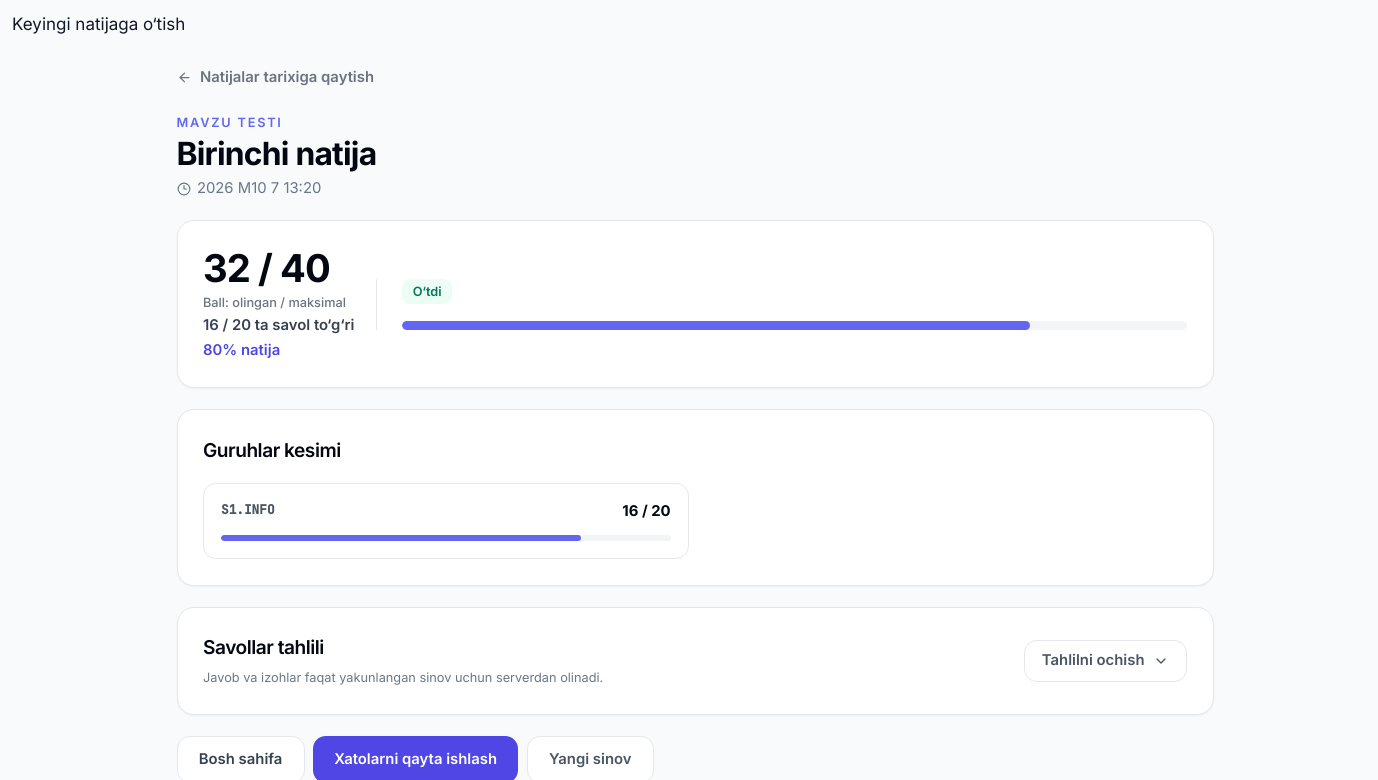
Test: ExamResultPage › does not leak the previous attempt review into a new result route
The width and height of the screenshot is (1378, 780).
Expected: the heading "Birinchi natija" is shown, [176,134,376,173]
Click the button "Tahlilni ochish".
click(1105, 661)  # box [1024,640,1187,682]
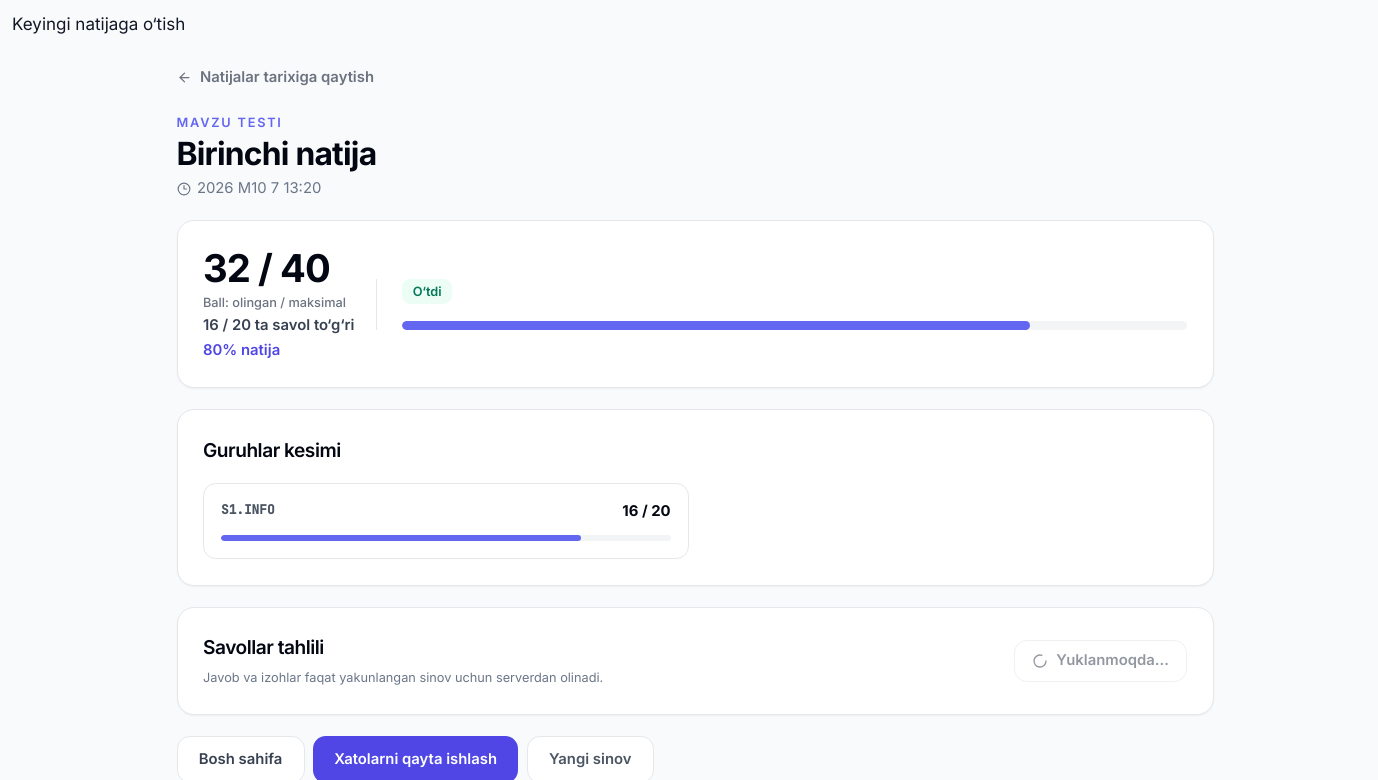
Click the link "Keyingi natijaga o‘tish".
click(99, 24)  # box [12,14,185,34]
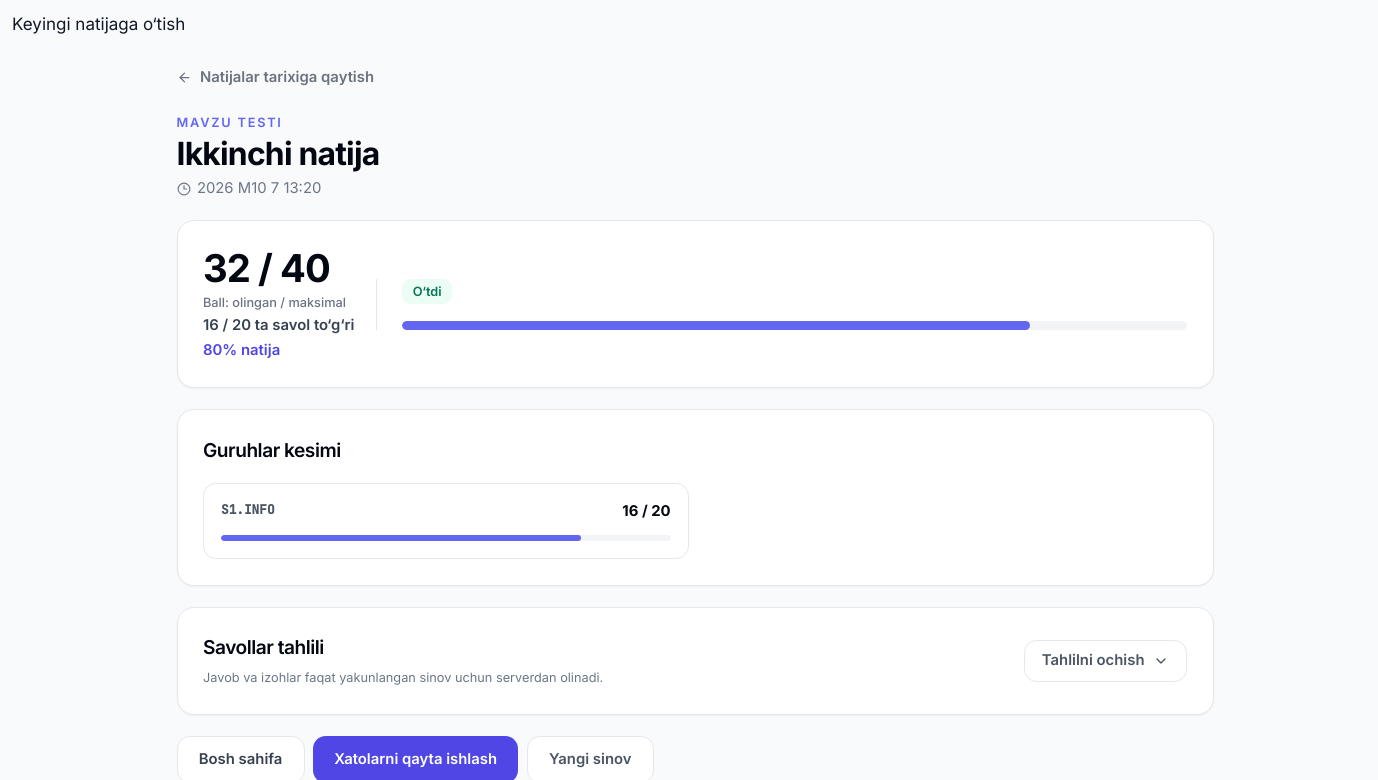
Expected: the heading "Ikkinchi natija" is shown, [176,134,380,173]
Click the button "Tahlilni ochish".
click(1105, 661)  # box [1024,640,1187,682]
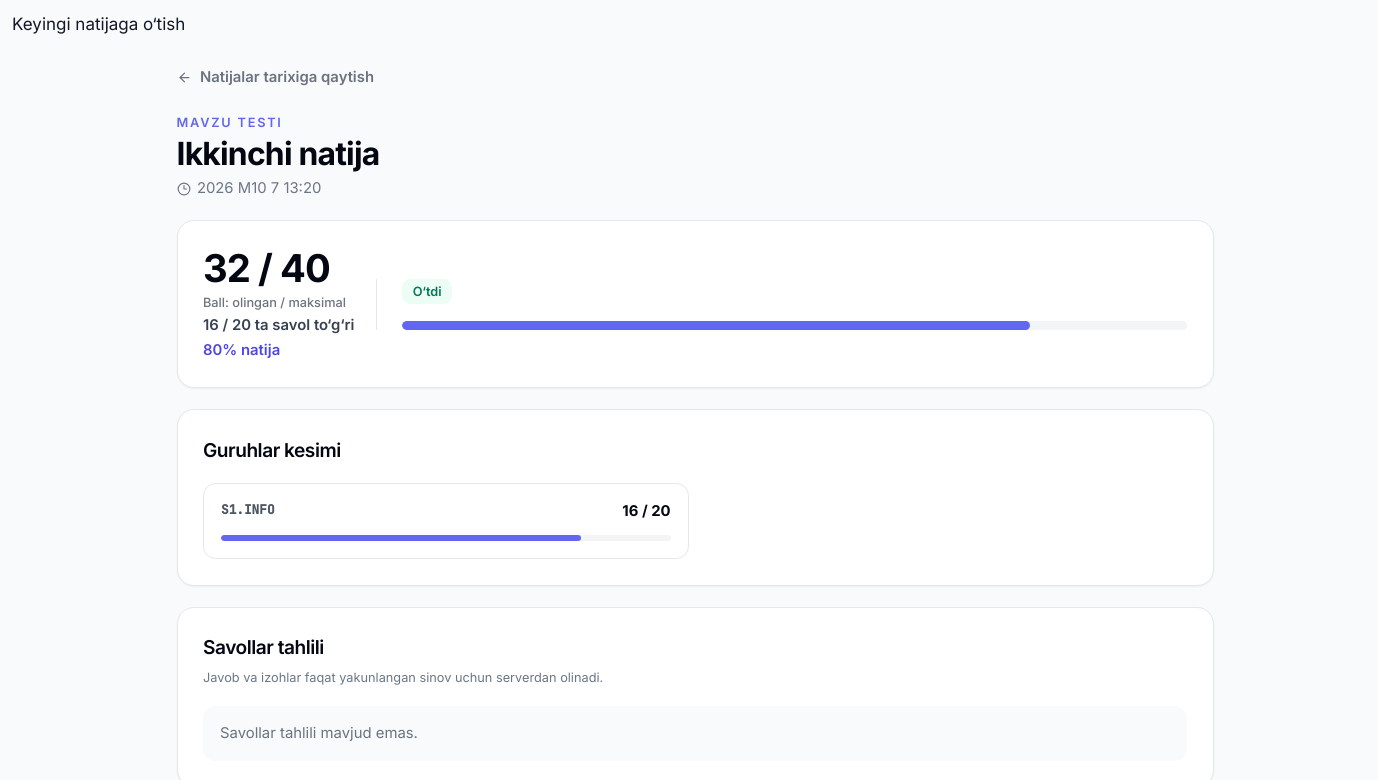
Expected: the text "Savollar tahlili mavjud emas." is shown, [203,706,1187,761]
